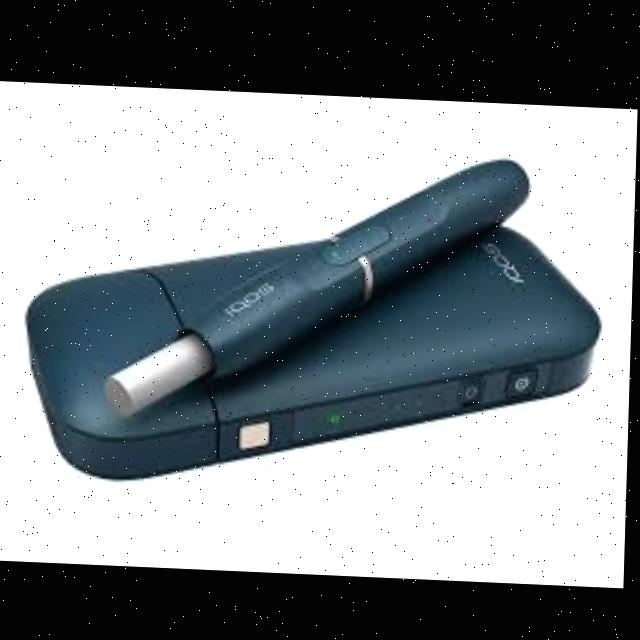vape: (23, 204, 605, 497), (104, 139, 531, 430)
